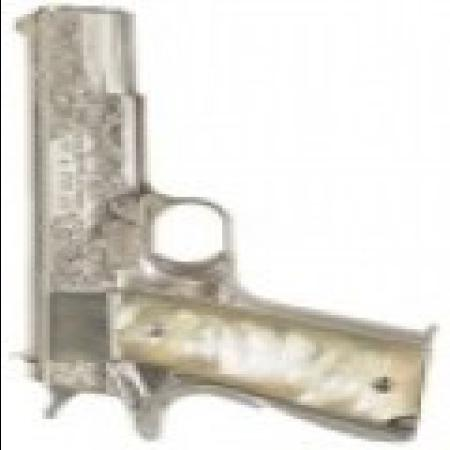Pistol: (7, 3, 428, 439)
